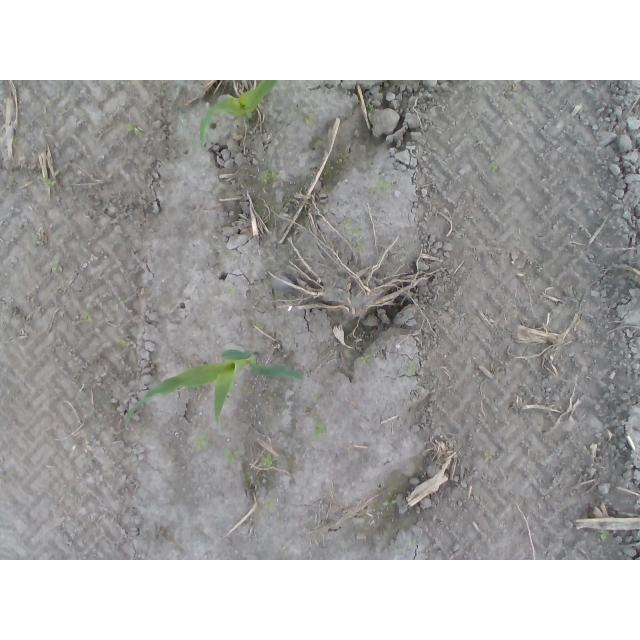Maize: (125, 349, 307, 432), (198, 81, 280, 148)
Weeds: (343, 219, 367, 249), (357, 340, 375, 365), (35, 171, 60, 186), (371, 179, 392, 193), (313, 422, 327, 439), (222, 449, 239, 463), (194, 434, 208, 450), (128, 125, 143, 138), (225, 286, 238, 299), (261, 456, 275, 468), (112, 338, 130, 347), (81, 313, 94, 324), (50, 261, 63, 272), (261, 171, 275, 181), (383, 500, 397, 509), (305, 115, 316, 126), (32, 234, 42, 246), (406, 365, 416, 375), (264, 501, 276, 509), (490, 162, 499, 171), (483, 450, 492, 459), (600, 532, 609, 541), (369, 103, 376, 113), (411, 540, 417, 549), (87, 302, 93, 310), (118, 300, 124, 305)
